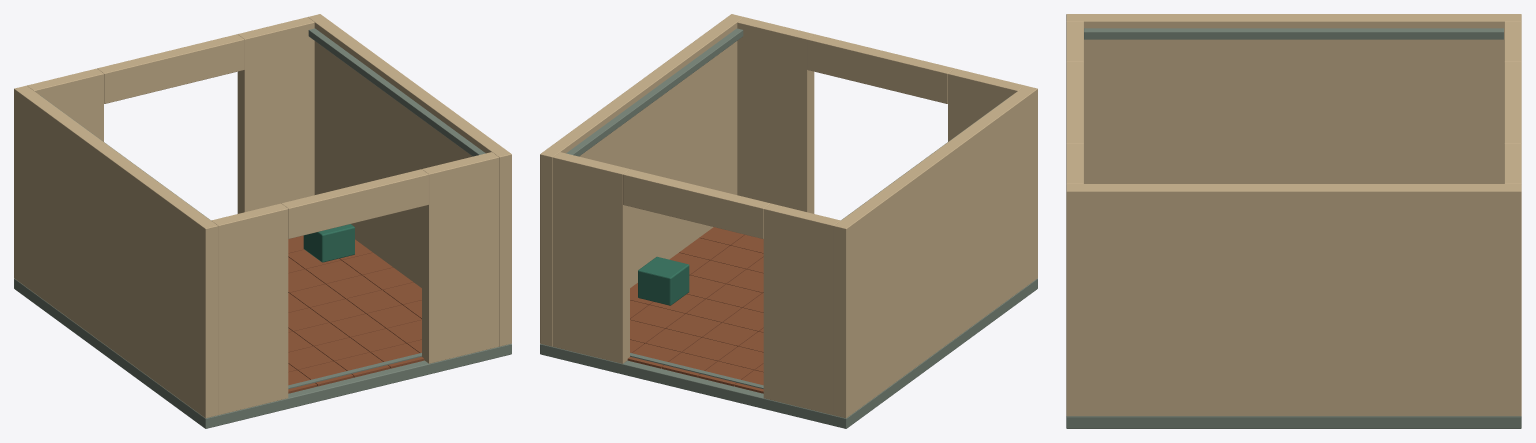
File: source-edit.glb
3 renders of one model, left to right at view 1: azimuth 30°, elevation 25°; view 2: azimuth 150°, elevation 25°; view 3: azimuth 270°, elevation 25°, orthographic. The views are drawn at different scales.
Parts seen in each view (by area): view 1: COURT_SideWall.001, COURT_SideWall, COURT_EndPier.002, COURT_EndPier.001, COURT_EndPier, COURT_Foundation, COURT_Lintel, COURT_Lintel.001, COURT_EndPier.003, COURT_Cornice, COURT_Planter, COURT_Paver.050 (+20 smaller); view 2: COURT_SideWall.001, COURT_SideWall, COURT_EndPier, COURT_EndPier.003, COURT_EndPier.002, COURT_Foundation, COURT_Lintel.001, COURT_Lintel, COURT_EndPier.001, COURT_Cornice, COURT_Planter, COURT_Paver.050 (+20 smaller); view 3: COURT_SideWall, COURT_SideWall.001, COURT_Foundation, COURT_Cornice.001, COURT_Lintel.001, COURT_Lintel, COURT_EndPier.002, COURT_EndPier, COURT_EndPier.001, COURT_EndPier.003.
Boxes of the visible parts, x1,y1,x2,y2 form: COURT_SideWall.001: [14, 85, 218, 418]; COURT_SideWall: [308, 14, 511, 346]; COURT_EndPier.002: [422, 152, 498, 363]; COURT_EndPier.001: [211, 203, 288, 415]; COURT_EndPier: [237, 17, 314, 213]; COURT_Foundation: [14, 278, 511, 428]; COURT_Lintel: [97, 34, 244, 103]; COURT_Lintel.001: [281, 169, 428, 238]; COURT_EndPier.003: [27, 68, 103, 141]; COURT_Cornice: [308, 28, 485, 156]; COURT_Planter: [303, 224, 354, 262]; COURT_Paver.050: [289, 284, 345, 307]; COURT_SideWall.001: [833, 85, 1037, 418]; COURT_SideWall: [540, 14, 743, 346]; COURT_EndPier: [553, 152, 629, 363]; COURT_EndPier.003: [763, 203, 840, 415]; COURT_EndPier.002: [737, 17, 814, 213]; COURT_Foundation: [540, 278, 1037, 428]; COURT_Lintel.001: [807, 34, 954, 103]; COURT_Lintel: [623, 169, 770, 238]; COURT_EndPier.001: [948, 68, 1024, 141]; COURT_Cornice: [566, 28, 743, 156]; COURT_Planter: [638, 256, 689, 305]; COURT_Paver.050: [706, 284, 762, 307]; COURT_SideWall: [1066, 184, 1521, 416]; COURT_SideWall.001: [1066, 14, 1521, 183]; COURT_Foundation: [1066, 416, 1521, 428]; COURT_Cornice.001: [1084, 28, 1503, 39]; COURT_Lintel.001: [1066, 62, 1083, 143]; COURT_Lintel: [1504, 62, 1521, 143]; COURT_EndPier.002: [1066, 143, 1083, 184]; COURT_EndPier: [1504, 143, 1521, 184]; COURT_EndPier.001: [1066, 21, 1083, 61]; COURT_EndPier.003: [1504, 21, 1521, 61].
Bounding box in the file's own units: 4.8 × 3 × 5.2.
